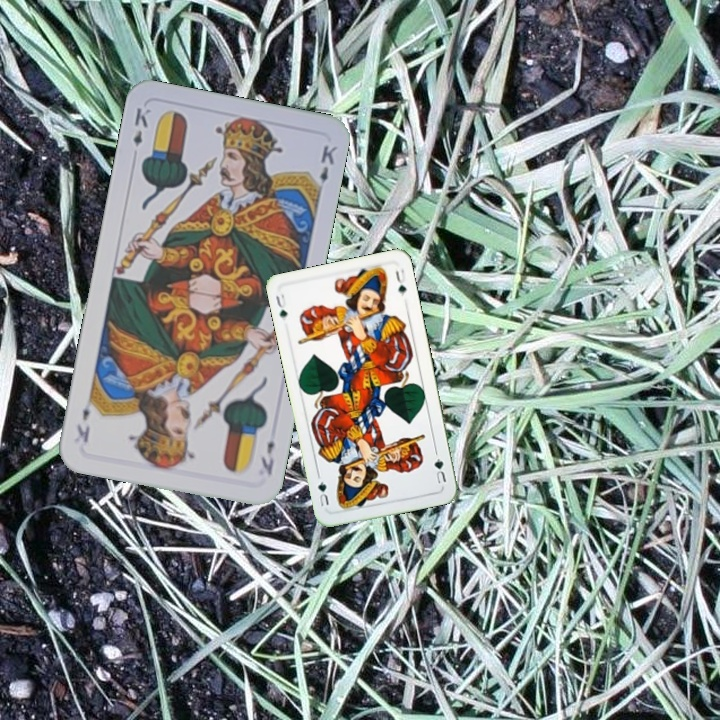EK: (129, 103, 153, 149), (256, 436, 277, 478)
GU: (430, 448, 449, 486), (272, 290, 290, 321)
